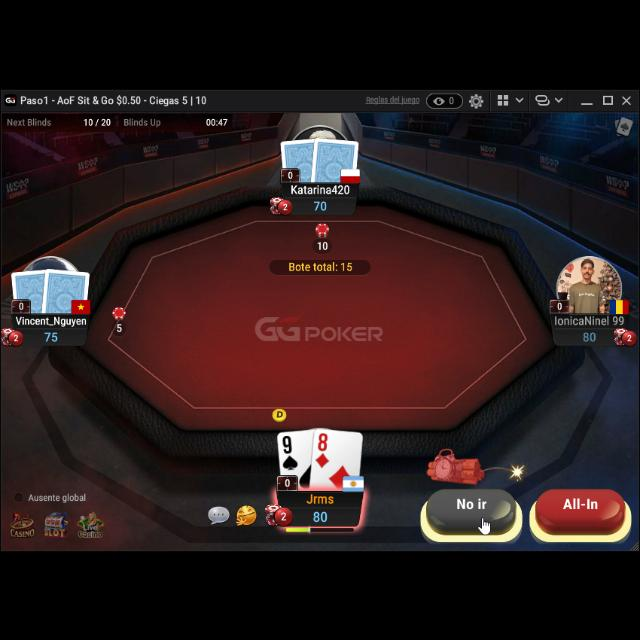8d: (314, 428, 332, 468)
9s: (280, 431, 300, 471)
bet_text: (316, 237, 330, 251), (317, 236, 329, 252), (114, 318, 125, 332), (114, 318, 124, 332)
card_back: (310, 131, 360, 183), (42, 264, 92, 314), (9, 266, 53, 312), (280, 134, 324, 180)
dealer: (272, 404, 288, 422)
pot_text: (286, 258, 354, 272)
stack_text: (310, 504, 330, 522), (581, 327, 599, 343), (580, 328, 598, 344), (312, 196, 328, 210), (44, 328, 60, 342)
